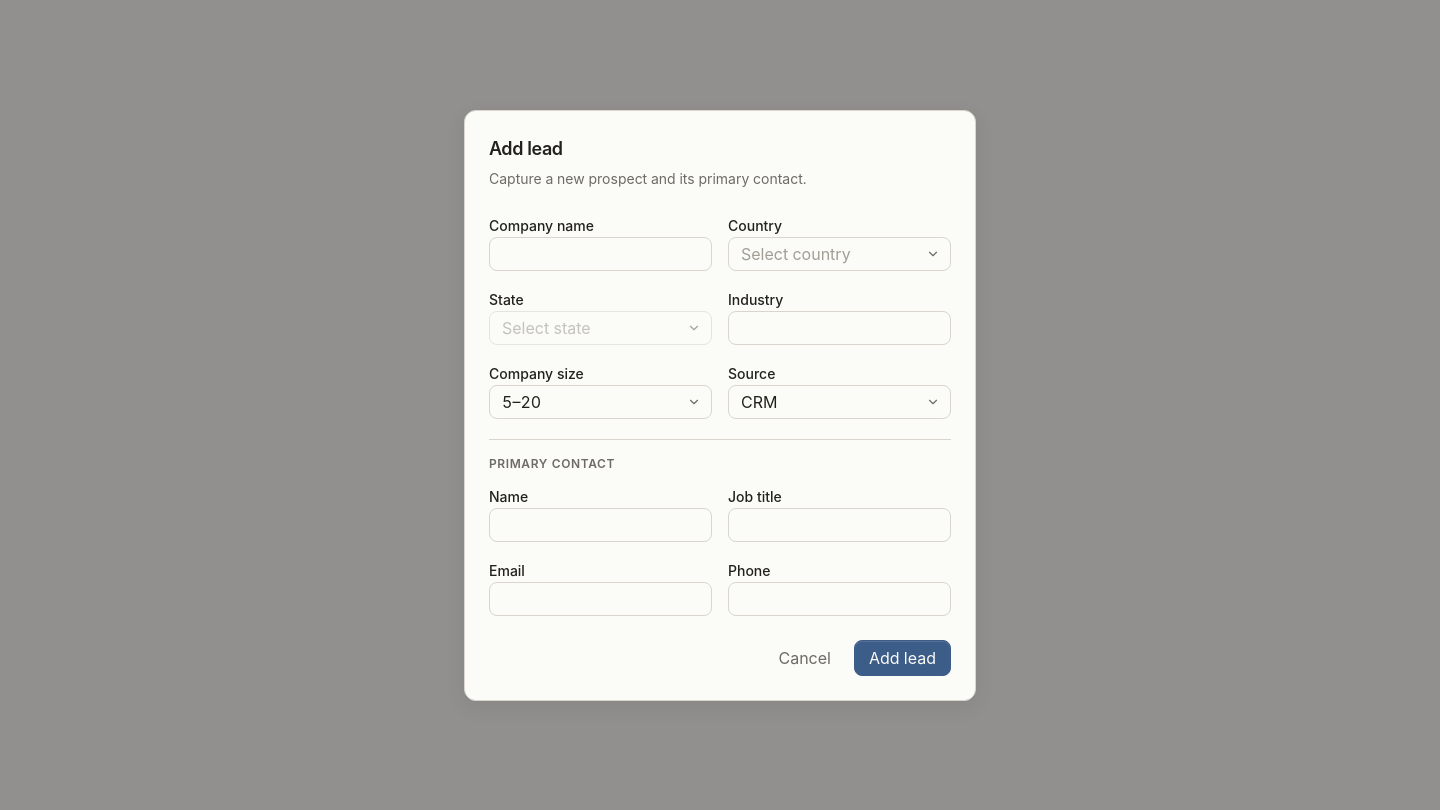
Test: CreateLeadModal › loads state options from the selected country
Click the dropdown labelled "Select country" at coordinates (840, 254), box top-left (728, 236), bottom-right (951, 270)
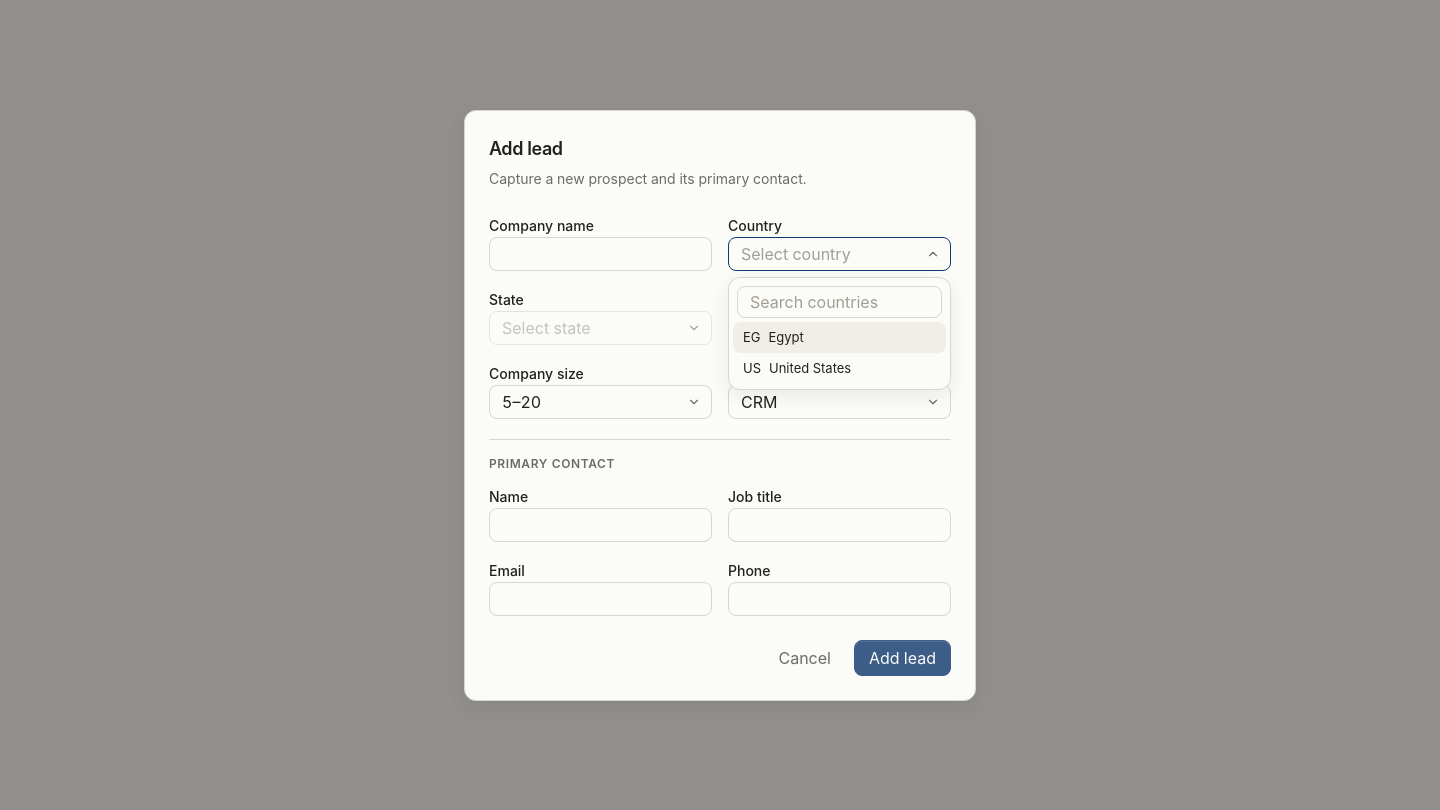
Click the option "EG Egypt" at coordinates (840, 337), box top-left (733, 322), bottom-right (946, 353)
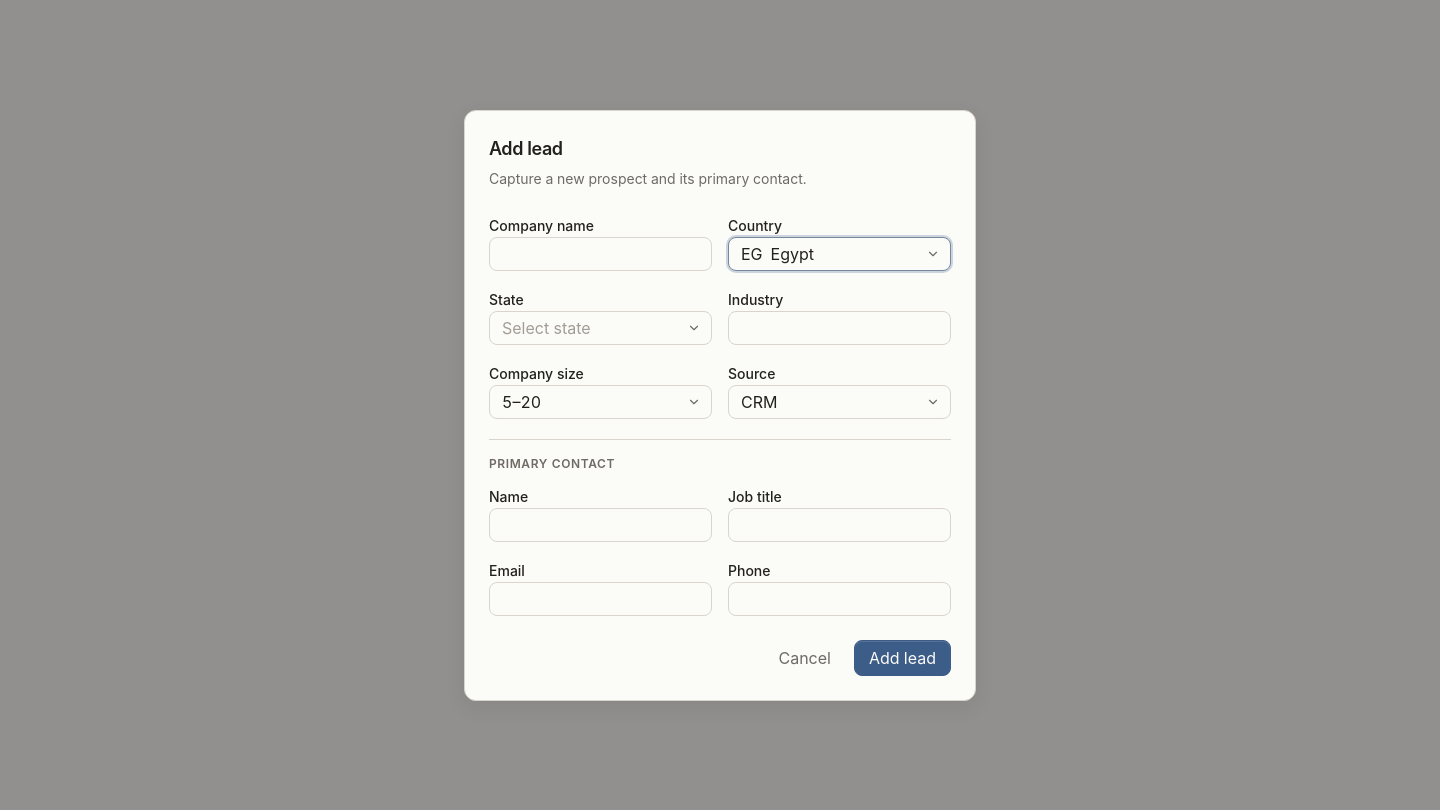
Click the dropdown labelled "Select state" at coordinates (600, 328), box top-left (489, 310), bottom-right (712, 344)
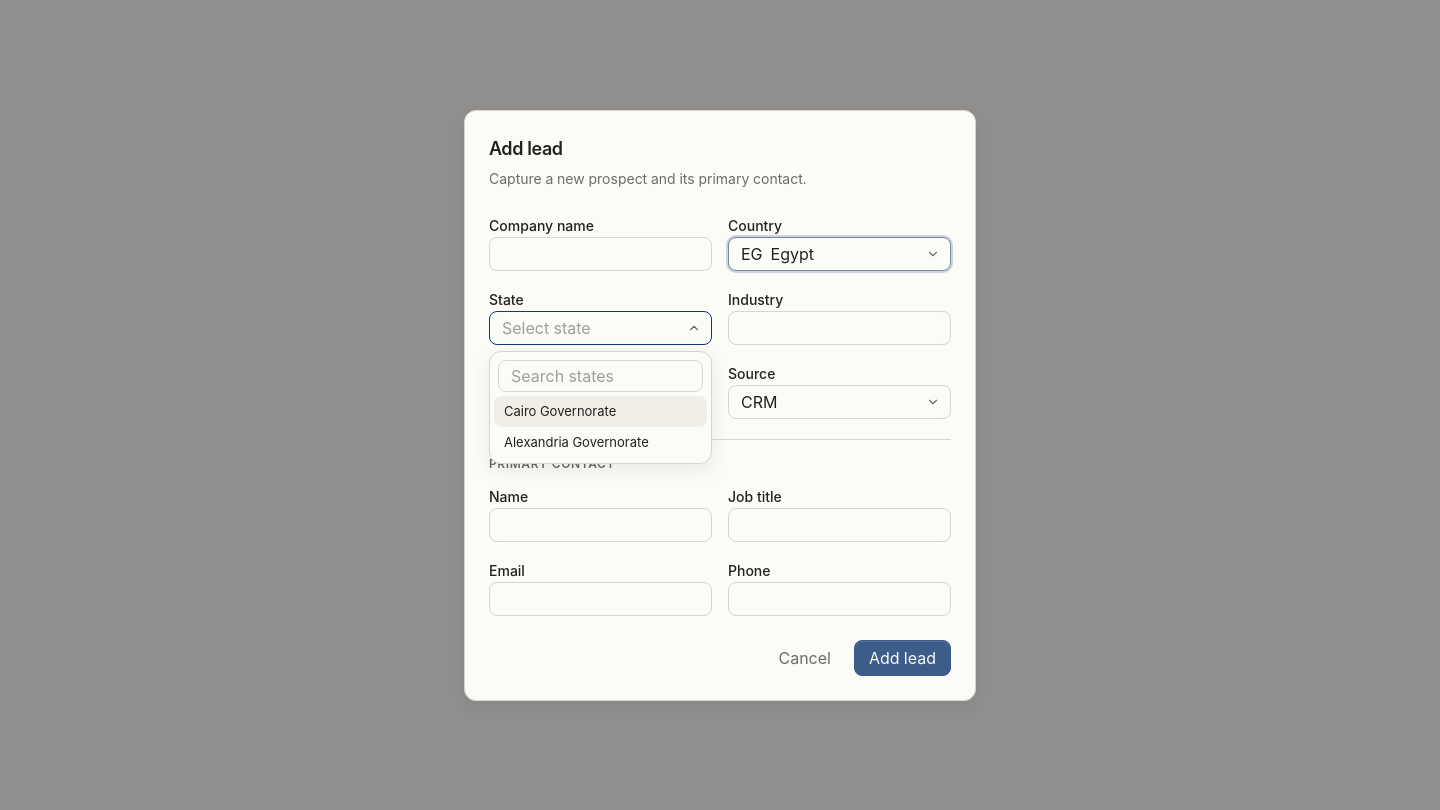
Click the option "Cairo Governorate" at coordinates (600, 411), box top-left (494, 396), bottom-right (707, 427)
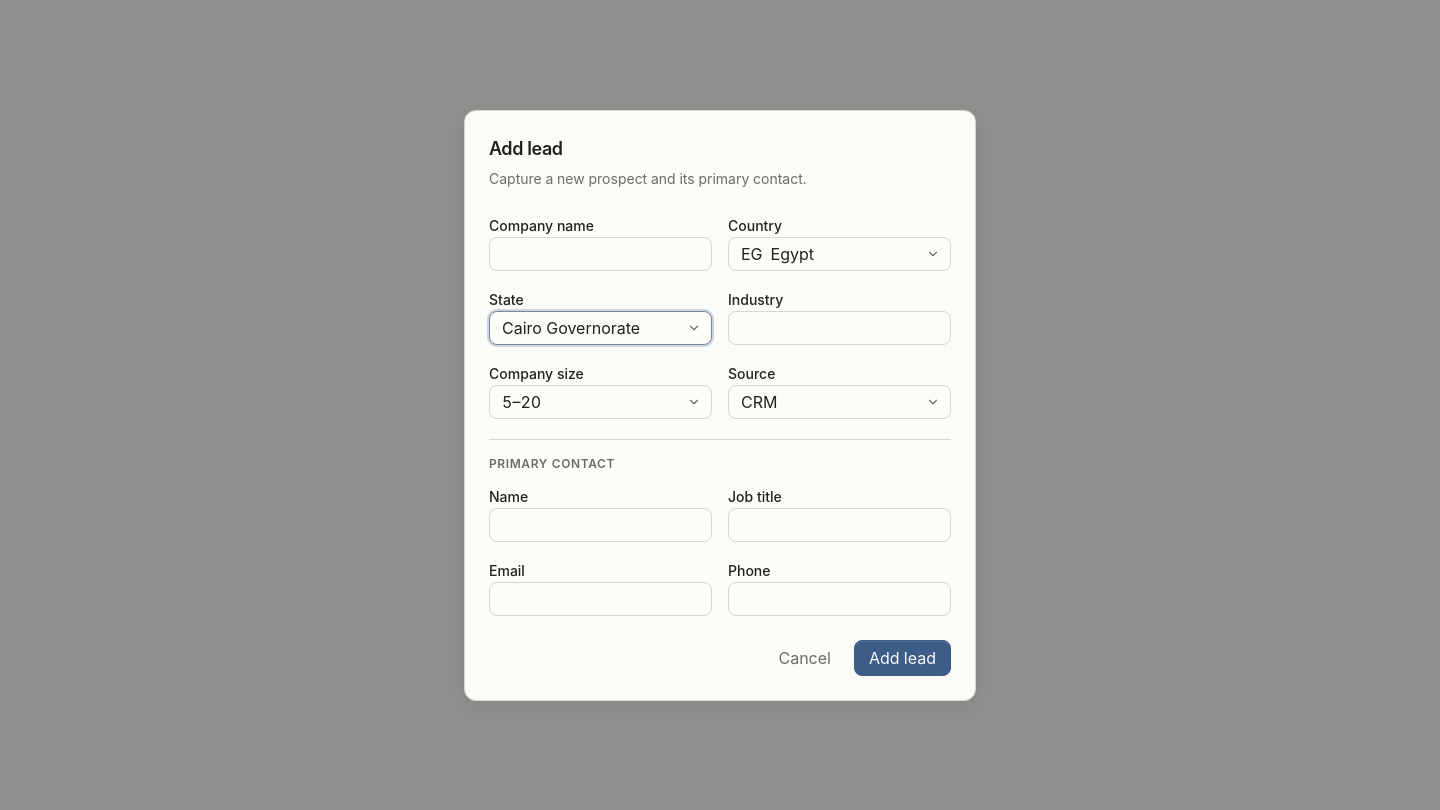
expect the dropdown named "country" shows "Egypt": met, box top-left (728, 236), bottom-right (951, 270)
expect the dropdown named "state" reads "Cairo Governorate": met, box top-left (489, 310), bottom-right (712, 344)
